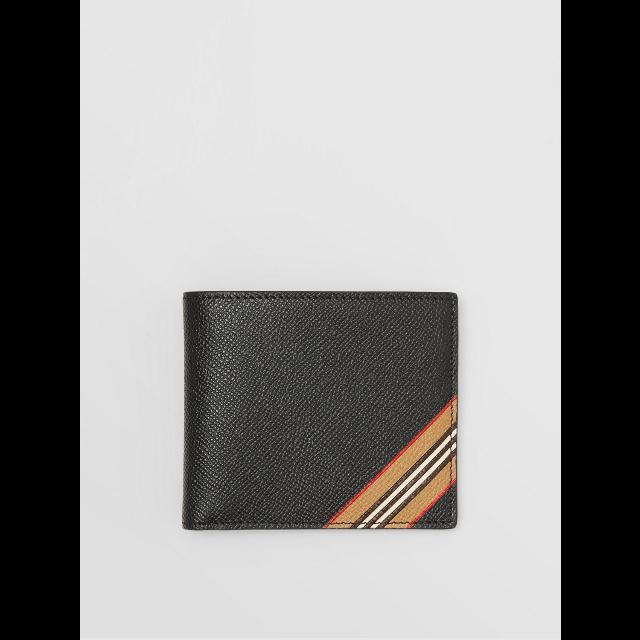wallet: (179, 285, 459, 535)
